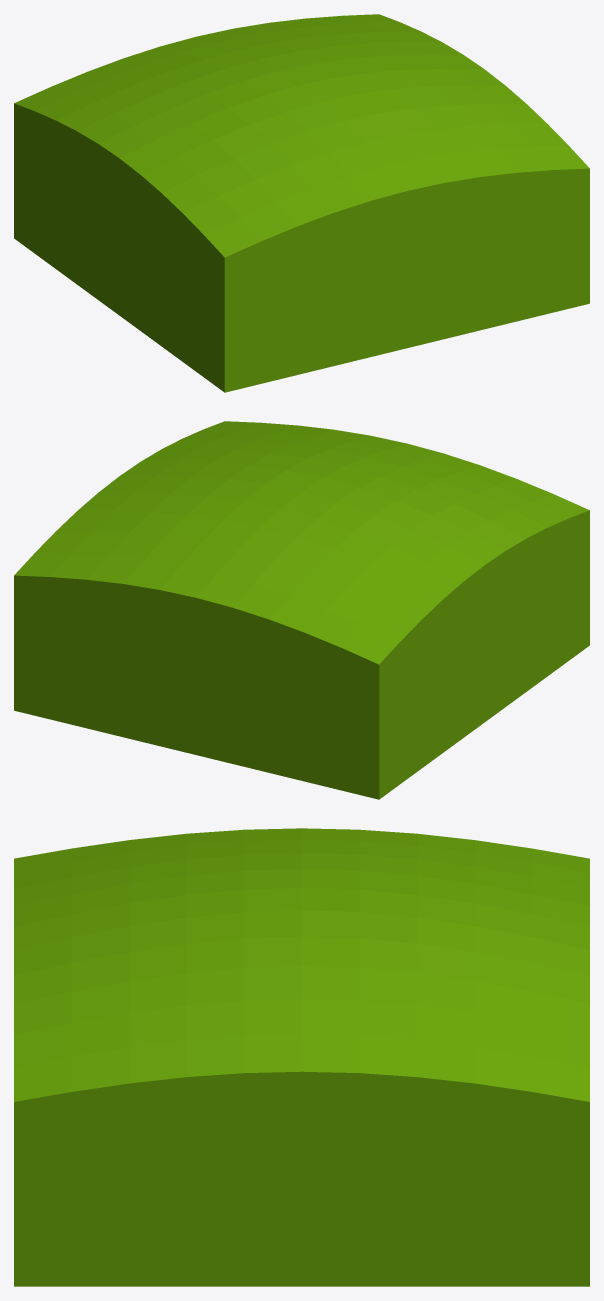
Rendered from TileGround_42.fbx.
3 views of the same model, one above another, from view 1: azimuth 30°, elevation 25°; view 2: azimuth 150°, elevation 25°; view 3: azimuth 270°, elevation 25° (orthographic). The views are drawn at different scales.
Visible parts, largest first — view 1: TileGround_42; view 2: TileGround_42; view 3: TileGround_42.
Part boxes in pixels (x1,y1,x2,y2): TileGround_42: (14, 14, 589, 392); TileGround_42: (14, 421, 589, 799); TileGround_42: (14, 828, 589, 1286).
Size of the model in its own units: 500 by 244 by 500.
